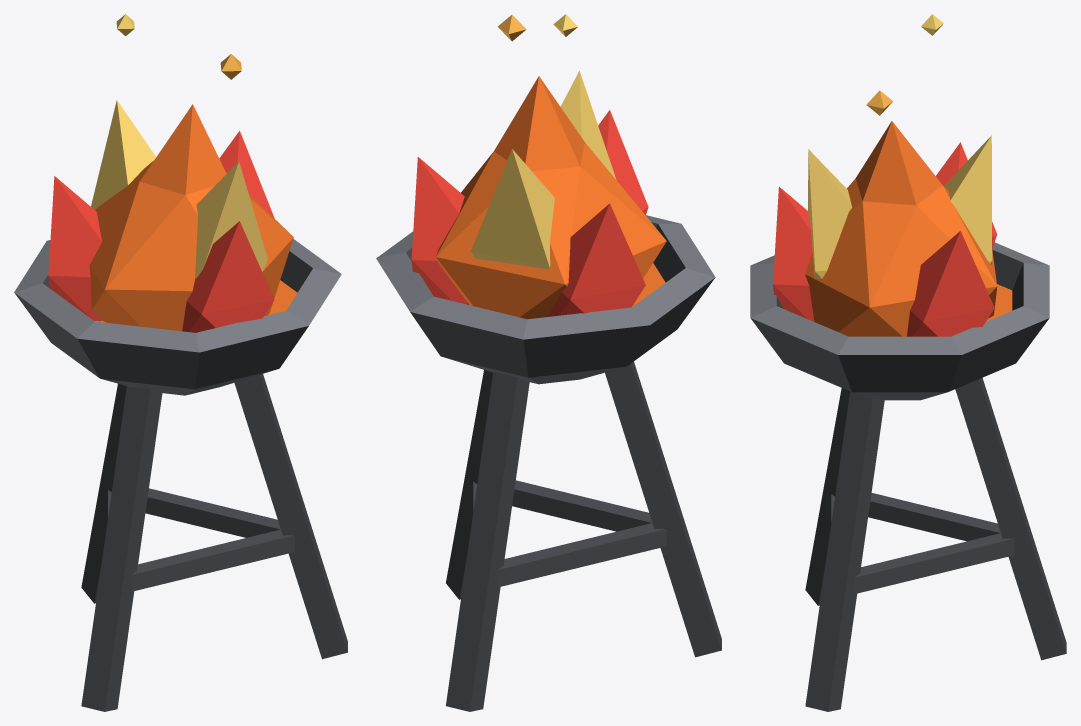
File: torch_brazier.fbx
The picture shows the model from 3 angles, left to right: view 1: azimuth 30°, elevation 25°; view 2: azimuth 150°, elevation 25°; view 3: azimuth 270°, elevation 25°; orthographic projection. The views are drawn at different scales.
Visible parts, largest first — view 1: torch_brazier; view 2: torch_brazier; view 3: torch_brazier.
Part boxes in pixels (box(x1,y1,x2,y2)): torch_brazier: box(14, 14, 347, 711); torch_brazier: box(376, 14, 721, 711); torch_brazier: box(750, 14, 1066, 711).
Size of the model in its own units: 0.7448 by 1.7 by 0.7808.
